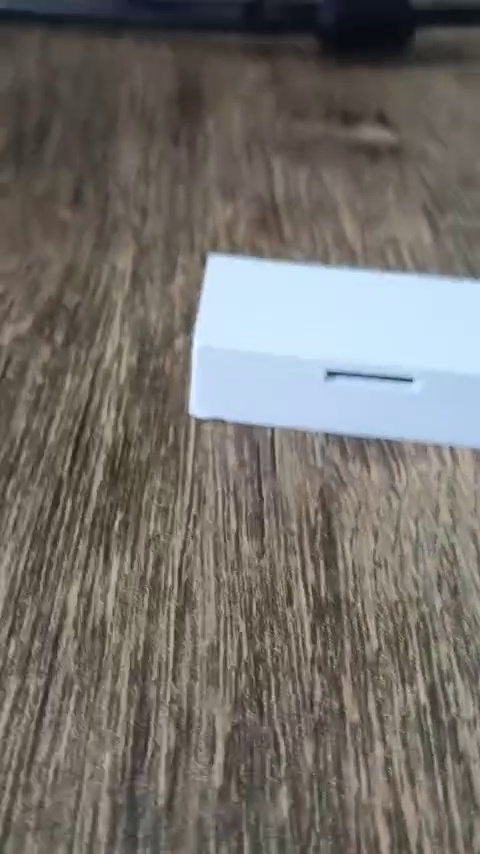enclosure: (185, 250, 480, 452)
